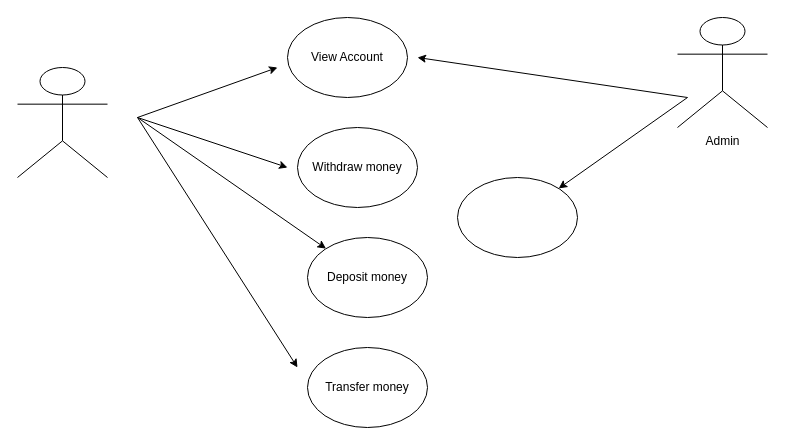
Image size: 785x445. Some labels were removed from this diagram. The box of each missing label's shape, as (x1, y1, x2, y2) in pixels:
Manage Account: (456, 176, 578, 258)
User: (16, 66, 108, 178)
